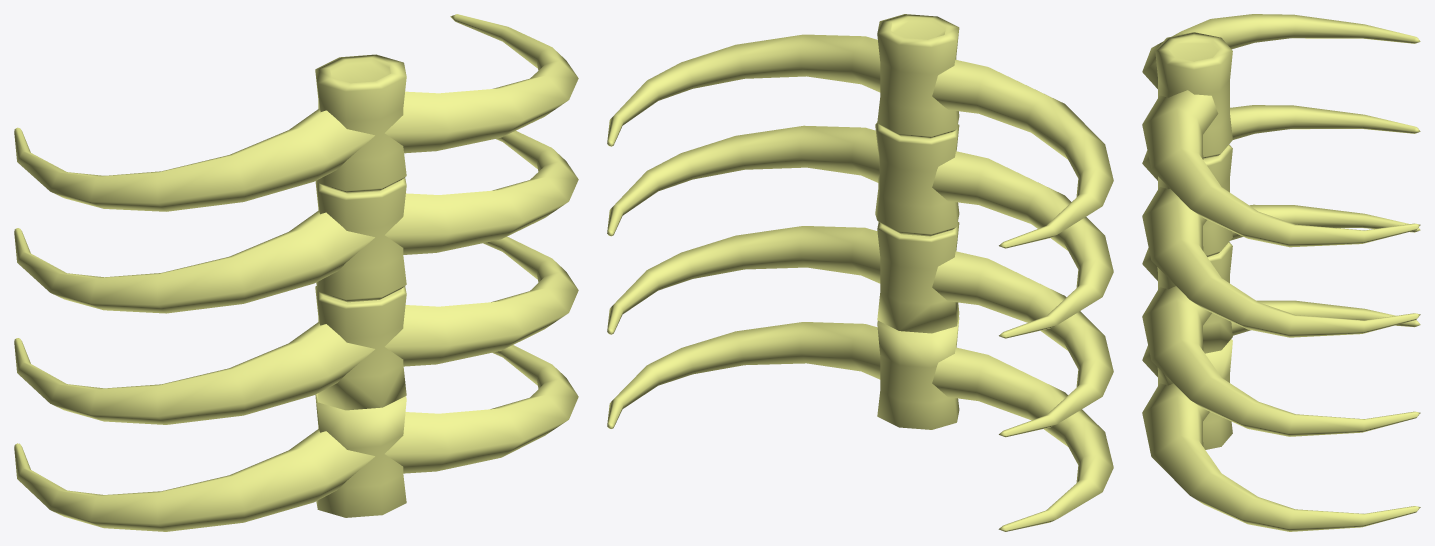
File: skeleton01.fbx
3 views of the same model, side by side, from view 1: azimuth 30°, elevation 25°; view 2: azimuth 150°, elevation 25°; view 3: azimuth 270°, elevation 25° (orthographic). The views are drawn at different scales.
Parts seen in each view (by area): view 1: skeleton01; view 2: skeleton01; view 3: skeleton01.
Boxes of the visible parts, x1,y1,x2,y2 form: skeleton01: (14,14,578,531); skeleton01: (607,14,1113,531); skeleton01: (1142,14,1420,531).
Size of the model in its own units: 243 by 195 by 126.
